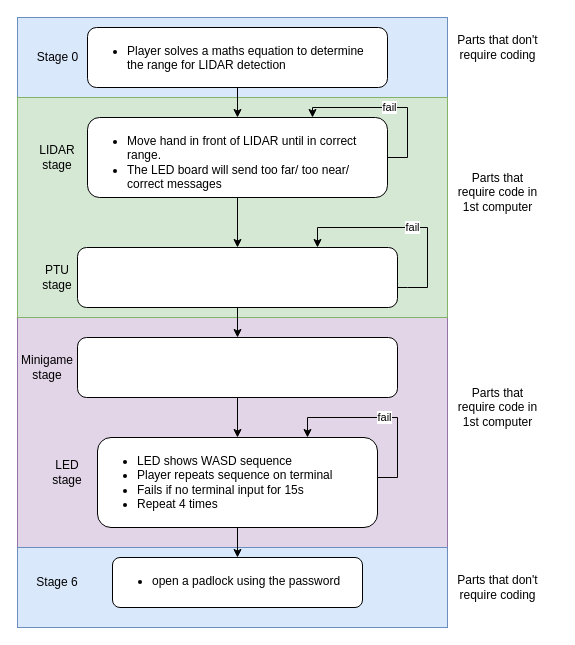
The diagram is 575 pixels wide and 645 high, and some of its shapes have lost their labels. Here are the shapes that lost their labels. From the top down, the centre of each, then its label:
the point at 237,277: Tilt PTU until in correct position using some type of input
the point at 237,367: Python game to pop the balloon and get padlock password
